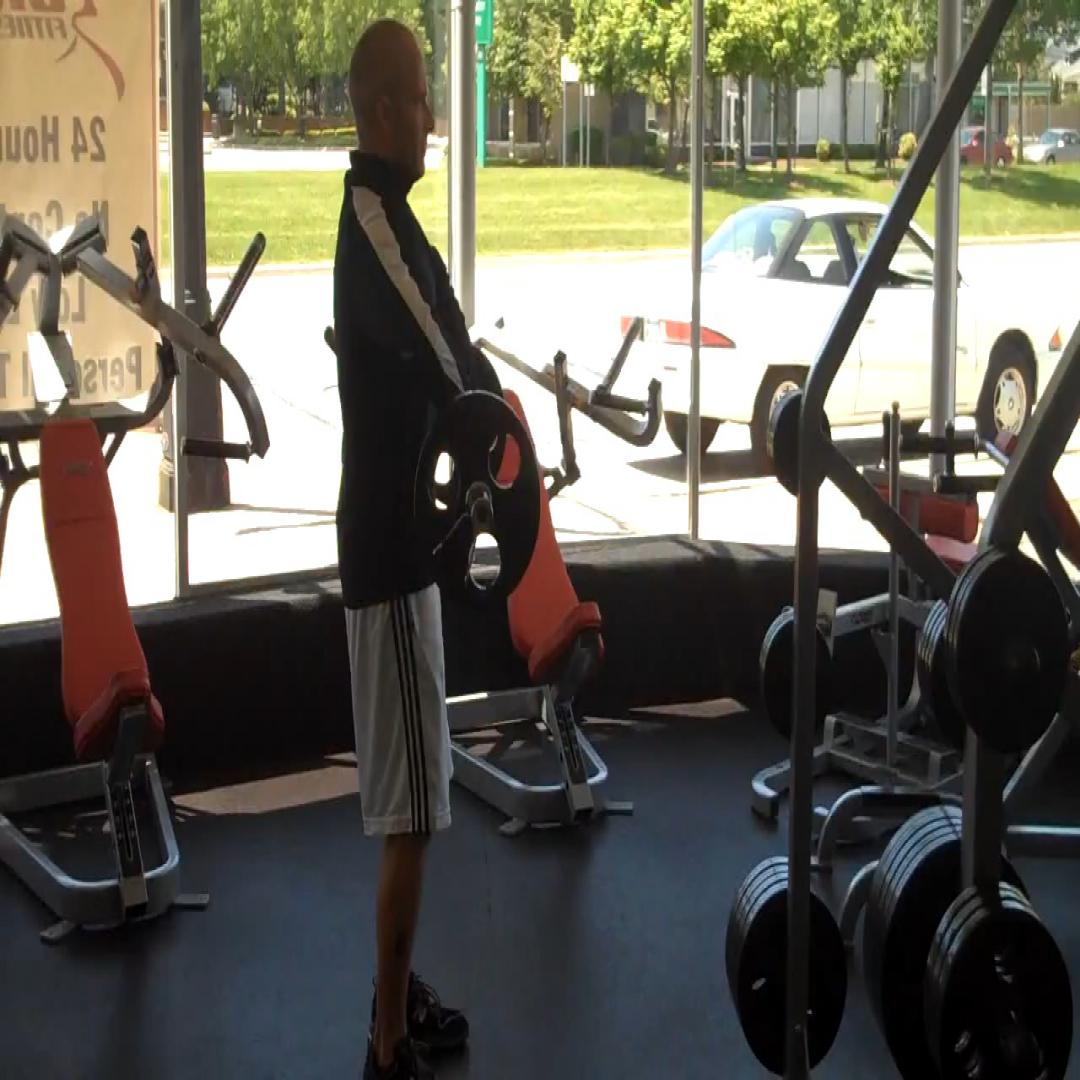Bar: (470, 496, 494, 532)
Barbell: (413, 392, 541, 612)
